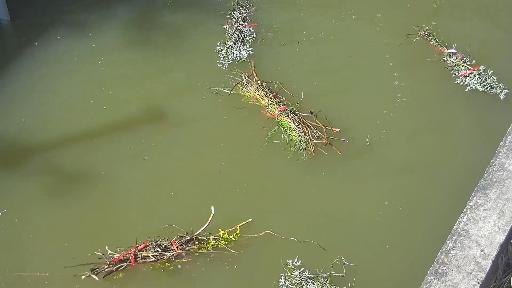twig: (82, 197, 335, 269), (211, 58, 365, 174), (396, 19, 512, 123), (211, 0, 265, 74), (268, 255, 366, 288)
